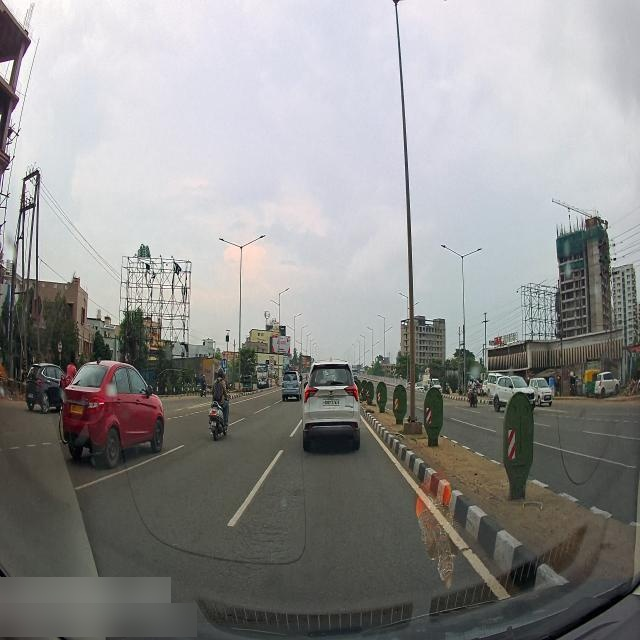pothole: (237, 549, 280, 573), (235, 516, 258, 542), (263, 524, 287, 540), (266, 480, 282, 499), (293, 481, 302, 498)
